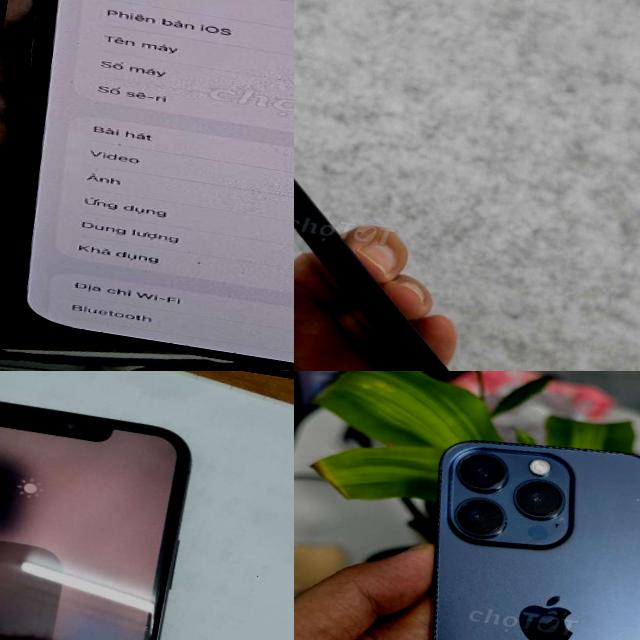gen_11: (0, 375, 210, 640)
gen_12_13: (0, 0, 294, 371)
gen_14: (294, 9, 593, 371)
gen_15: (378, 415, 640, 640)
